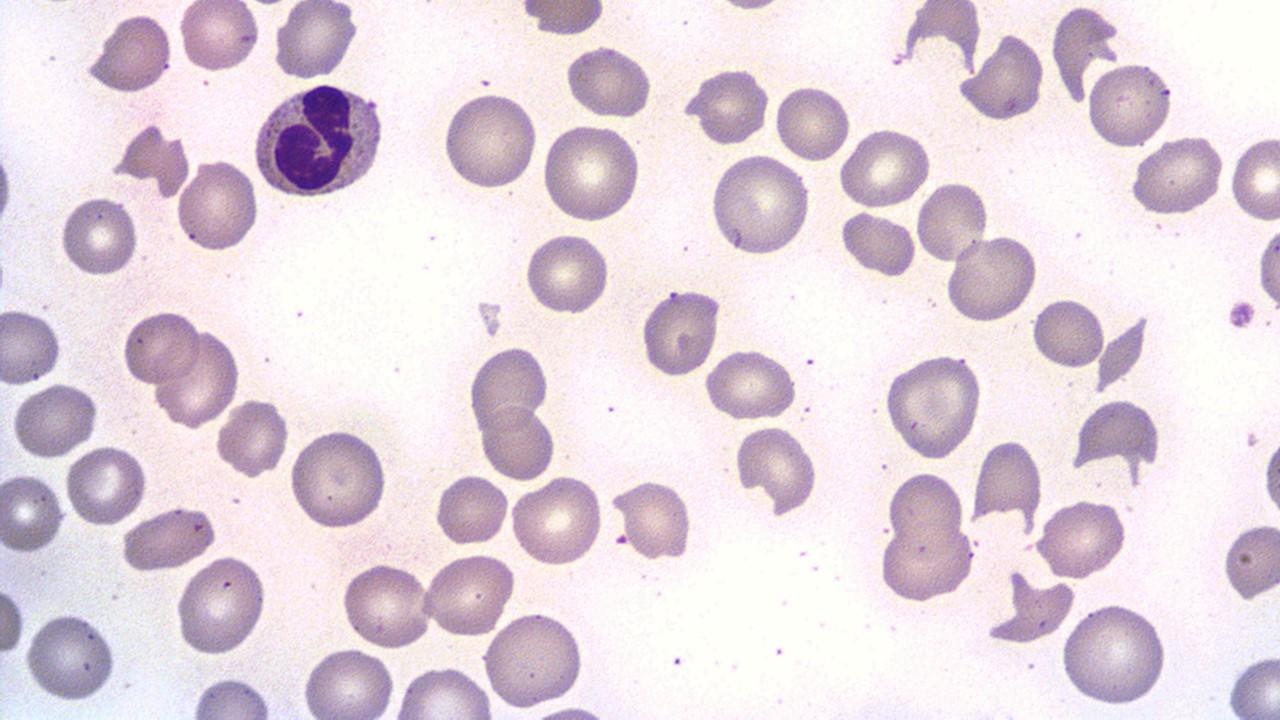Platelets: (1224, 296, 1258, 334)
RBC: (5, 349, 424, 720), (1057, 600, 1171, 710), (706, 152, 812, 258), (288, 424, 392, 532), (883, 351, 985, 460), (479, 609, 588, 710), (439, 88, 540, 193), (540, 120, 641, 225), (173, 552, 270, 658), (1065, 395, 1165, 494), (508, 473, 606, 571), (152, 324, 242, 430), (22, 608, 121, 704), (338, 558, 434, 652), (944, 233, 1041, 325), (954, 31, 1047, 124), (174, 155, 260, 255), (1128, 132, 1228, 218), (423, 549, 517, 640), (1086, 59, 1176, 152), (1034, 495, 1130, 582), (465, 342, 552, 437), (734, 423, 820, 518), (877, 522, 976, 603), (837, 128, 933, 211), (83, 11, 176, 96), (639, 285, 721, 380), (702, 344, 799, 424), (299, 642, 398, 720), (1048, 2, 1120, 109), (524, 229, 611, 317), (562, 41, 656, 121), (63, 442, 150, 528), (57, 191, 140, 280), (886, 467, 966, 558), (684, 64, 770, 148), (272, 0, 360, 82), (612, 476, 694, 564), (11, 379, 99, 461), (119, 503, 218, 573), (914, 176, 990, 266), (120, 308, 202, 390), (773, 80, 852, 165), (478, 400, 558, 482), (214, 396, 290, 482), (176, 0, 262, 75), (432, 468, 511, 549), (391, 662, 497, 718), (1028, 294, 1106, 370), (0, 469, 66, 554), (838, 208, 917, 278), (1, 304, 63, 387), (1221, 519, 1279, 605), (1228, 132, 1280, 222), (186, 672, 277, 718), (1225, 650, 1279, 716), (517, 2, 607, 39), (0, 567, 25, 692), (1254, 220, 1280, 320), (1260, 407, 1280, 532)
WBC: (0, 0, 410, 453), (248, 74, 390, 205), (1067, 393, 1165, 496)
